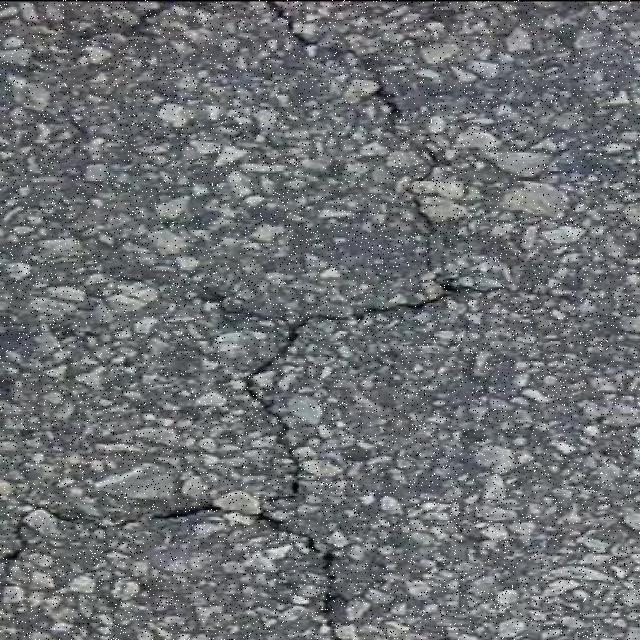Crack: (149, 275, 482, 640), (264, 0, 440, 271), (1, 505, 136, 561)
